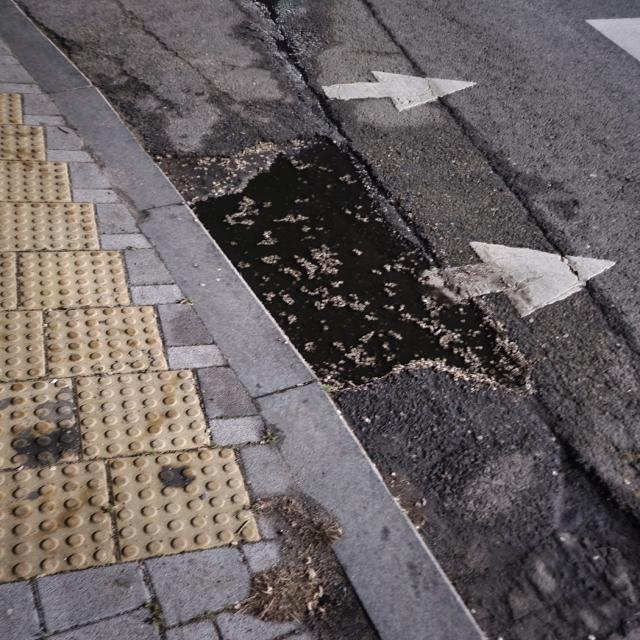pothole: (184, 135, 526, 390)
